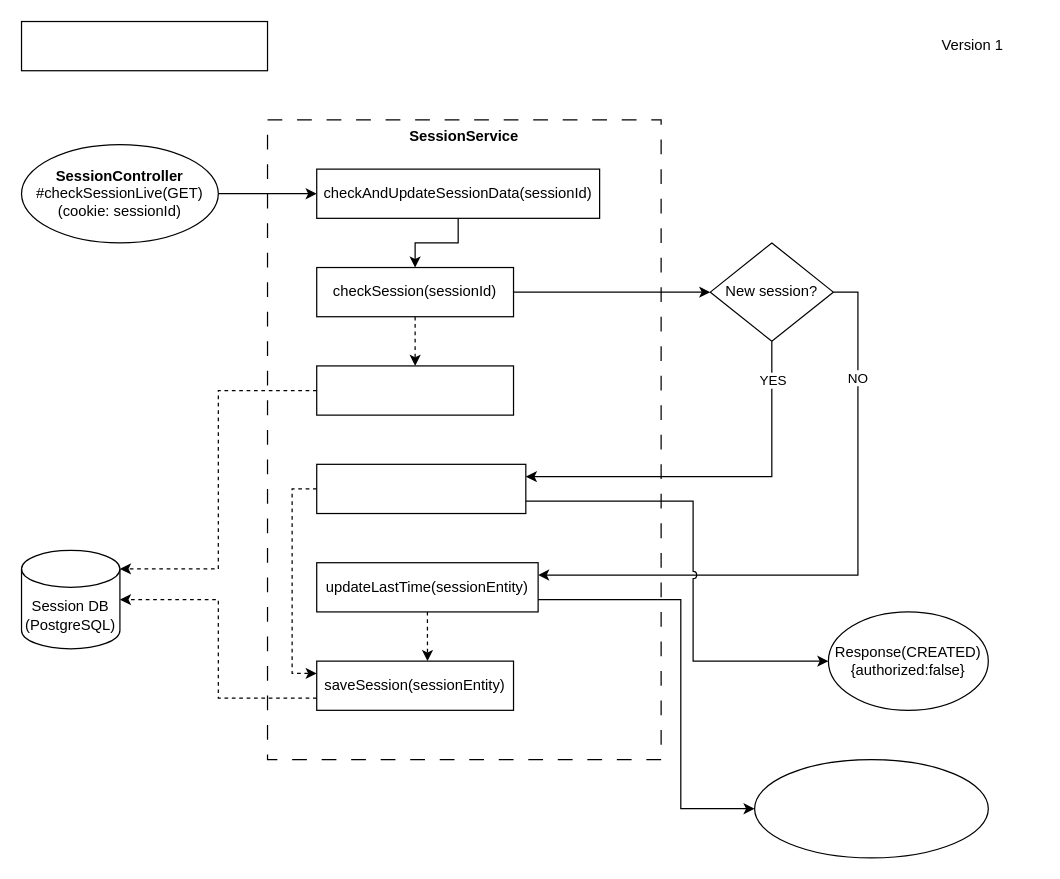
The diagram is 1060 pixels wide and 879 high, and some of its shapes have lost their labels. Each missing label, with the centre of its shape:
"createNewSession(sessionId)" belongs at [420,488].
"getSessionById(sessionId)" belongs at [414,390].
"Response(OK) {authorized:$(getAuthSession)}" belongs at [870,808].
"Session's available check" belongs at [144,45].
